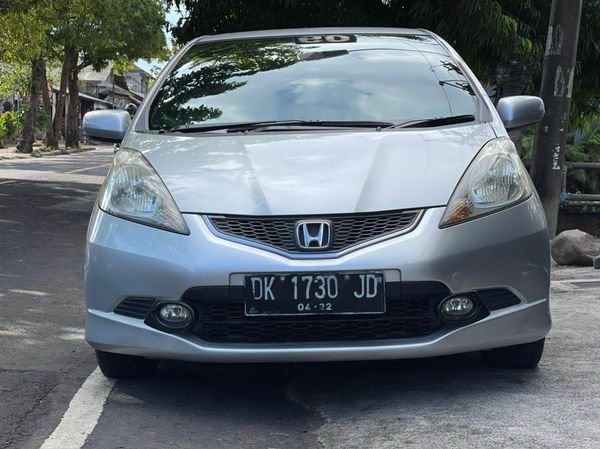plate: (241, 272, 387, 321)
